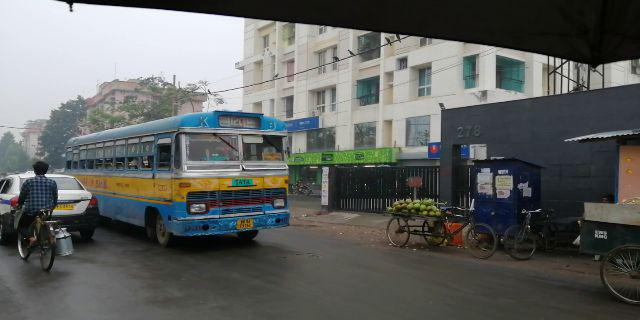Bus: (95, 110, 297, 242)
Car: (1, 173, 101, 241)
Cycle: (15, 159, 64, 279)
Rickshaw: (384, 197, 498, 260)
